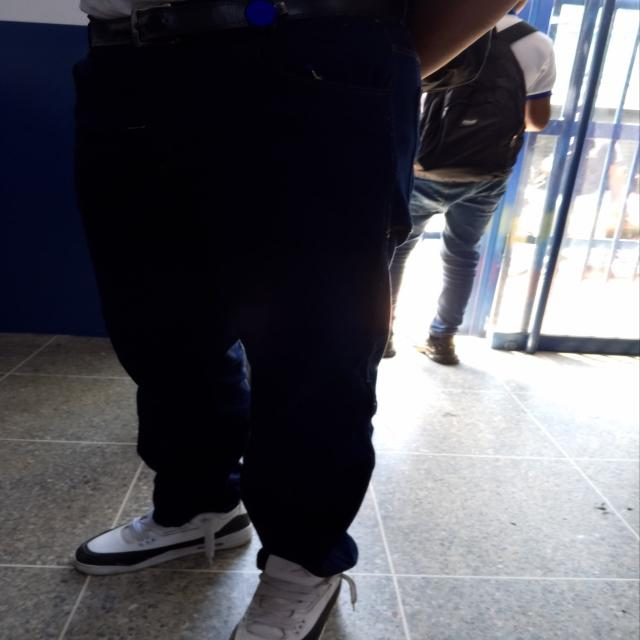pantalon_oscuro: (71, 0, 426, 579)
